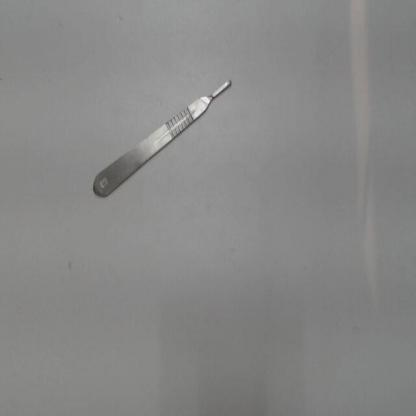No.3 BP Handle: (86, 60, 248, 212)
